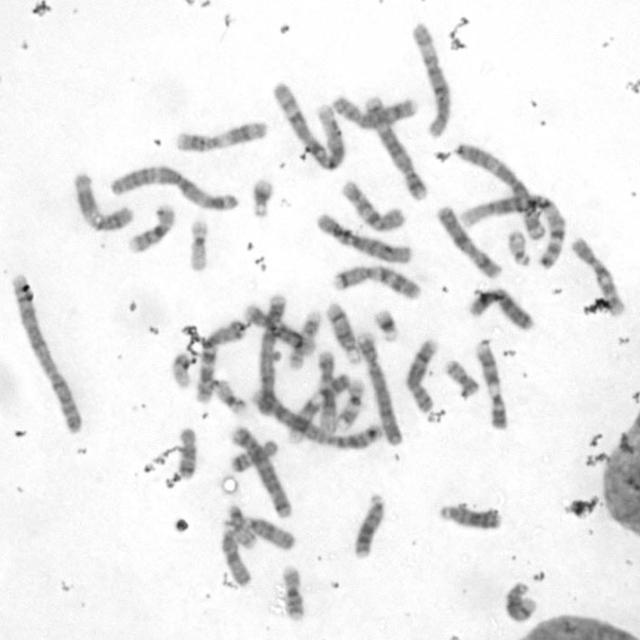A1: (455, 190, 569, 270), (268, 77, 347, 172)
A2: (7, 269, 85, 436), (249, 386, 383, 451)
A3: (452, 139, 548, 241), (105, 160, 241, 212)
B4: (354, 326, 405, 446), (254, 289, 296, 403)
B5: (360, 90, 429, 202), (227, 422, 294, 520)
C10: (568, 232, 626, 318), (336, 176, 408, 235)
C11: (69, 168, 135, 234), (171, 116, 269, 154)
C12: (241, 300, 316, 357), (313, 347, 338, 431)
C6: (313, 209, 413, 266), (409, 19, 452, 140)
C7: (192, 314, 248, 404), (329, 261, 422, 301)
C8: (328, 91, 418, 130), (402, 334, 439, 414)
C9: (284, 370, 351, 449), (472, 335, 509, 432)
D13: (350, 489, 388, 558), (435, 499, 503, 532)
D14: (323, 300, 362, 365), (500, 578, 538, 623)
D15: (217, 523, 255, 589), (232, 513, 296, 552)
E16: (124, 200, 177, 254), (278, 561, 307, 623)
E17: (284, 306, 324, 371), (335, 374, 367, 430)
E18: (226, 434, 280, 474), (174, 424, 198, 480)
F19: (185, 215, 211, 273), (213, 376, 248, 416)
F20: (440, 355, 480, 398), (225, 504, 259, 550)
G21: (247, 175, 277, 219), (371, 304, 401, 344)
G22: (504, 226, 533, 267), (168, 349, 193, 390)
X: (432, 202, 502, 281), (466, 282, 536, 334)
